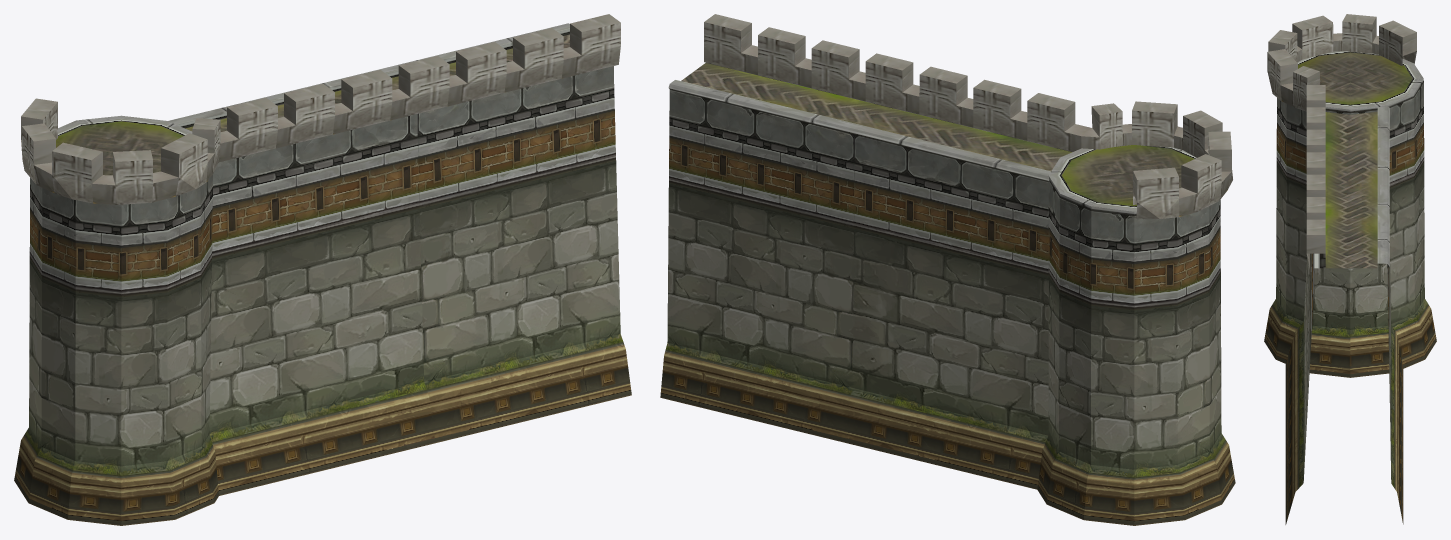
File: DN_mcwall02.FBX
3 views of the same model, side by side, from view 1: azimuth 30°, elevation 25°; view 2: azimuth 150°, elevation 25°; view 3: azimuth 270°, elevation 25° (orthographic). The views are drawn at different scales.
Parts seen in each view (by area): view 1: DN_mcwall02; view 2: DN_mcwall02; view 3: DN_mcwall02.
Part boxes in pixels (x1,y1,x2,y2): DN_mcwall02: (14,14,631,525); DN_mcwall02: (660,14,1235,525); DN_mcwall02: (1264,14,1436,524).
Bounding box in the file's own units: 2144 × 1315 × 706.
Materials: 1 (1 with a texture image).
